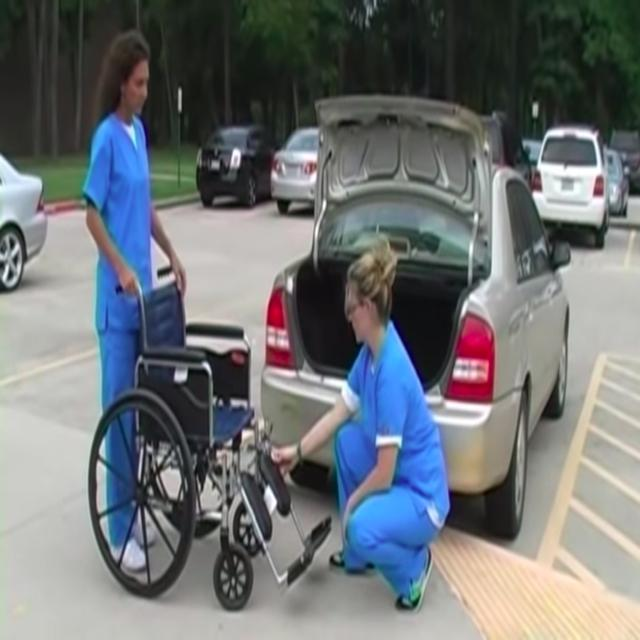wheelchairs: (84, 265, 311, 615)
